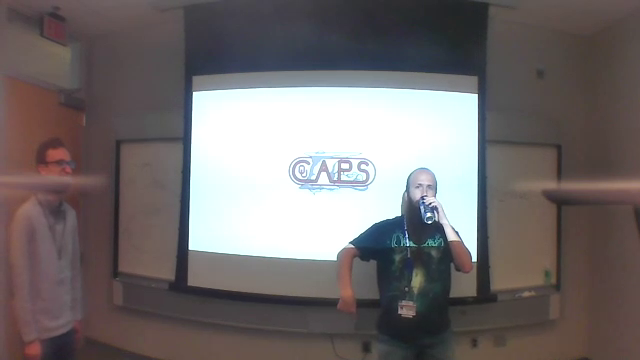down: (328, 283, 360, 332)
